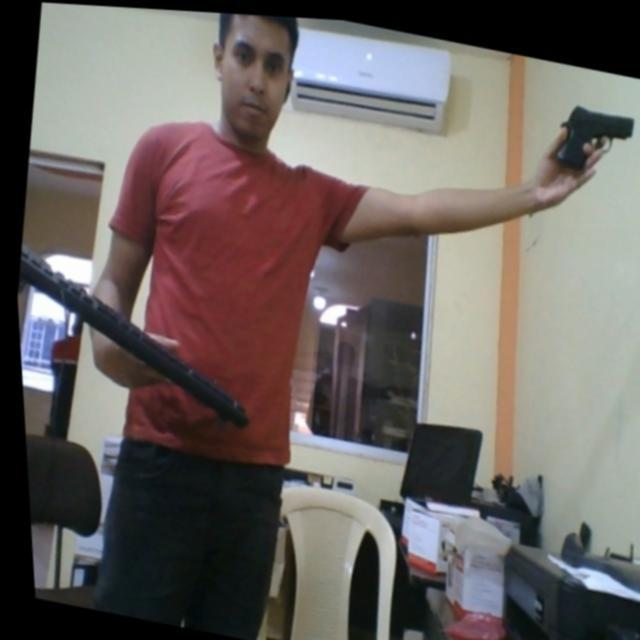weapon: (540, 86, 638, 180)
